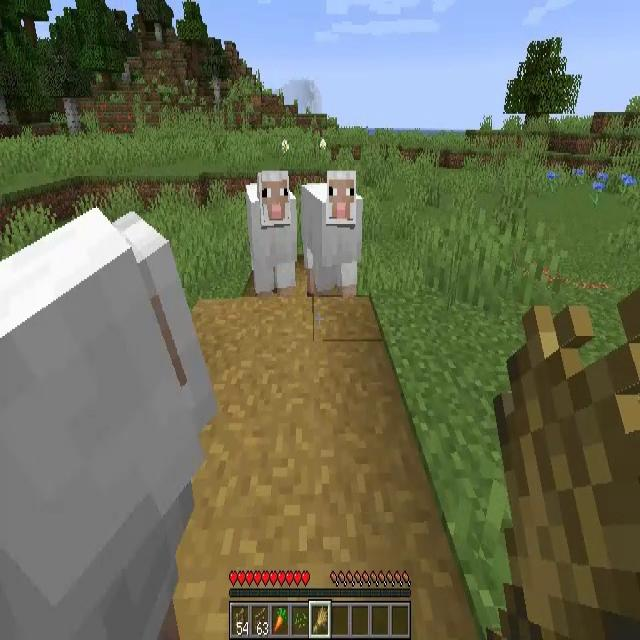flower: (619, 174, 631, 198), (547, 170, 557, 196), (592, 182, 603, 203), (281, 139, 291, 158), (574, 170, 584, 184), (318, 139, 327, 153)
sheep: (0, 209, 213, 640), (301, 173, 363, 297), (249, 167, 298, 293)
